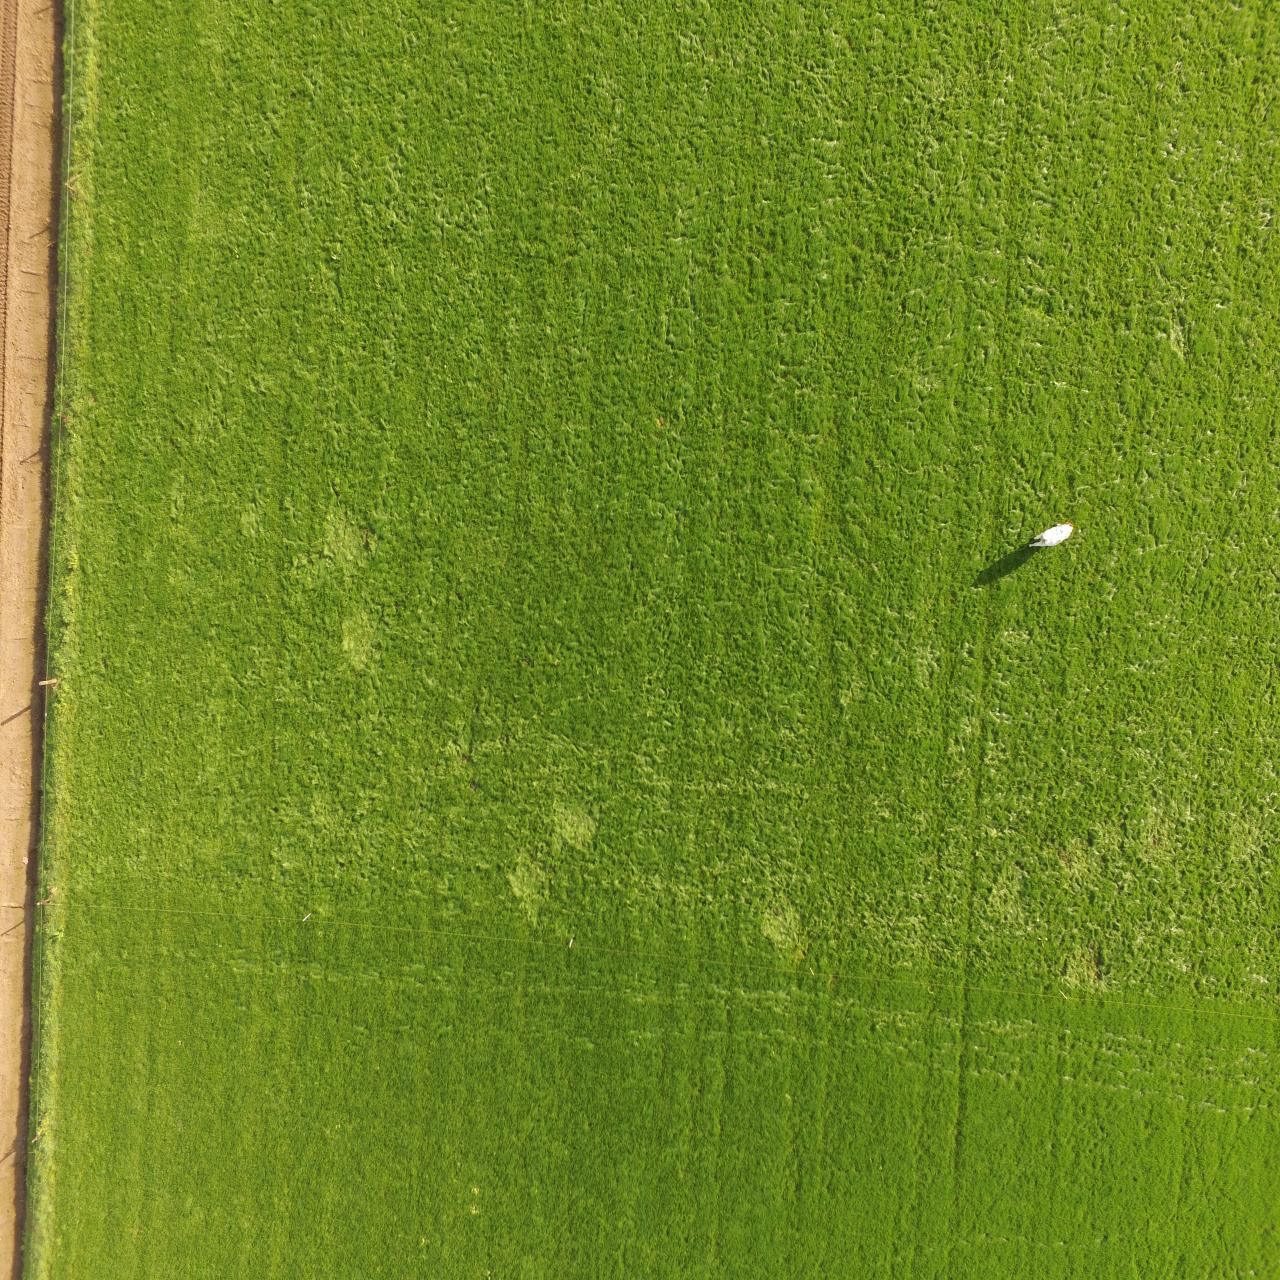cow: (1027, 518, 1076, 549)
